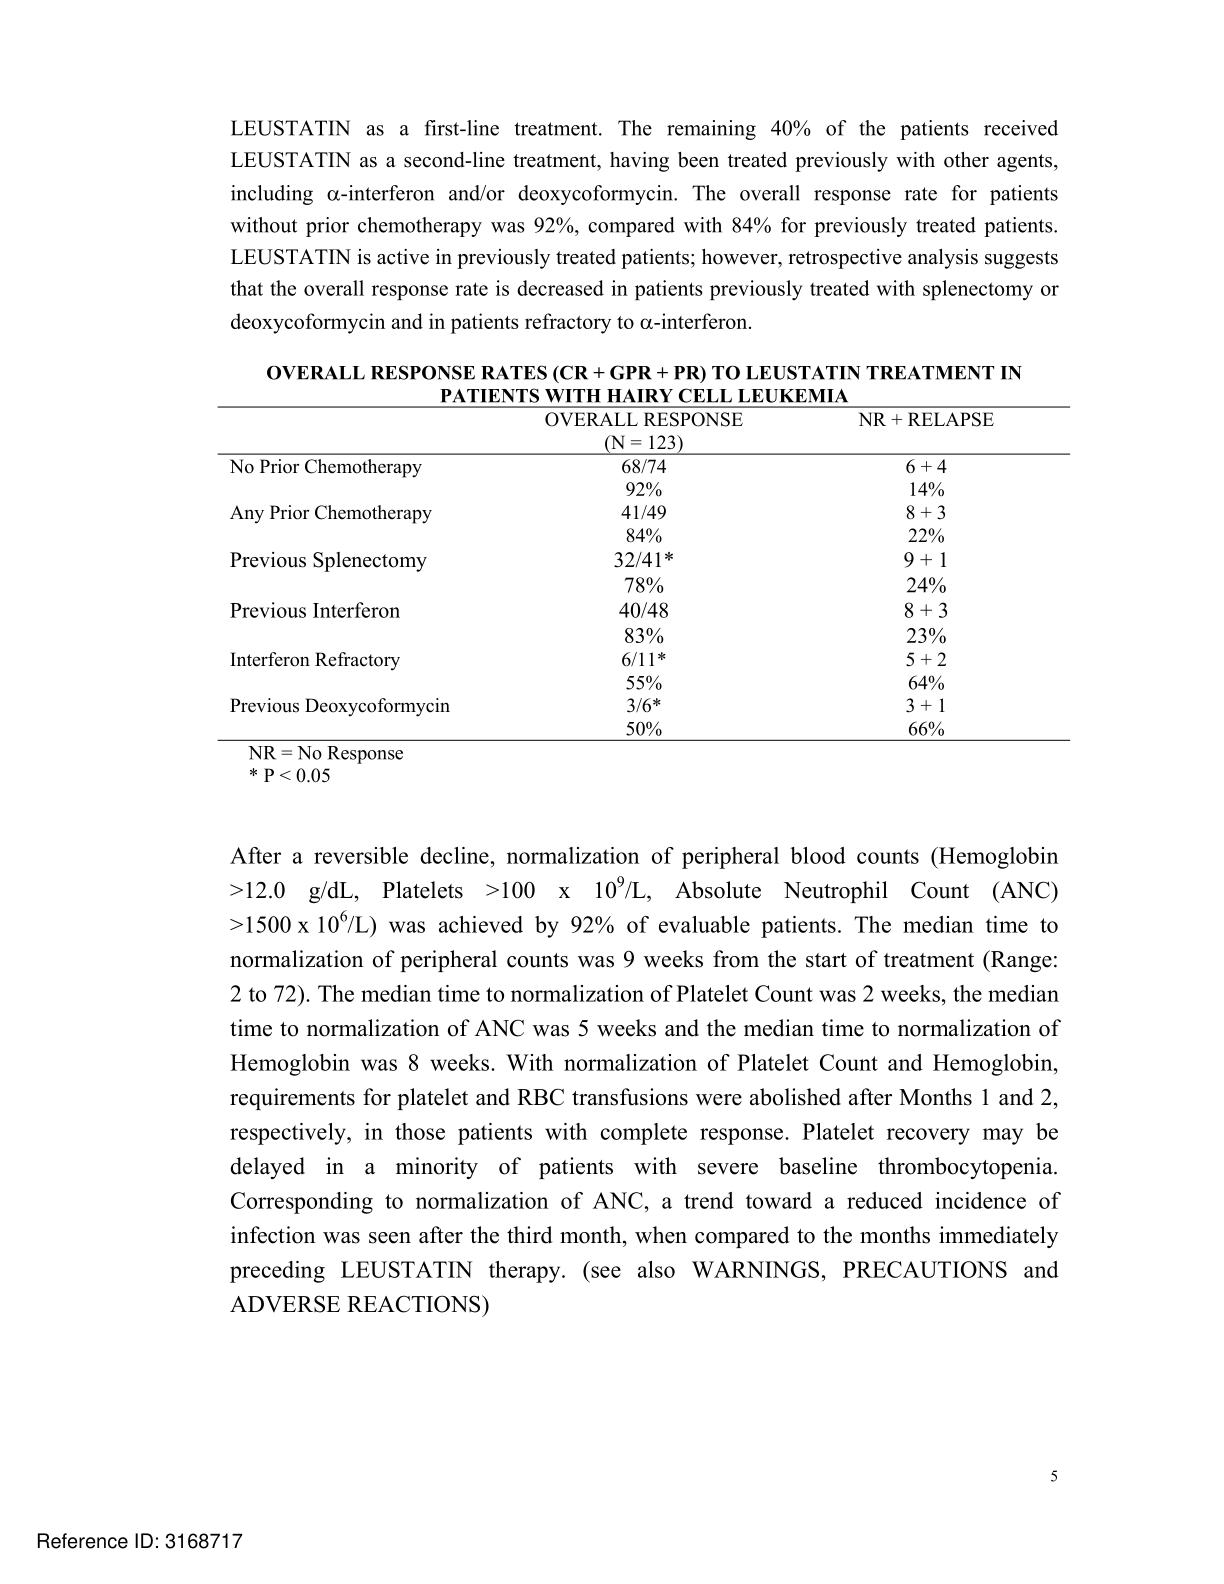partial_lined: (213, 404, 1076, 744)
